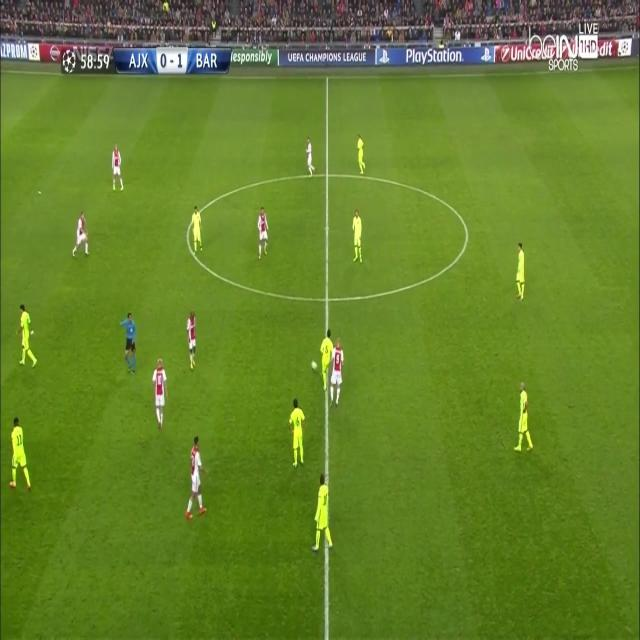Ball: (310, 357, 318, 377)
Player: (5, 415, 36, 496), (308, 471, 334, 560), (186, 432, 209, 524), (14, 298, 41, 372), (512, 380, 535, 455), (287, 391, 306, 471), (329, 333, 348, 409), (151, 355, 169, 433), (69, 211, 93, 262), (320, 327, 336, 395), (186, 308, 200, 373), (350, 208, 364, 266), (110, 144, 125, 195), (190, 203, 204, 257), (256, 204, 270, 258), (515, 240, 527, 302), (305, 136, 317, 183), (355, 132, 366, 178)
Referee: (120, 308, 139, 380)
